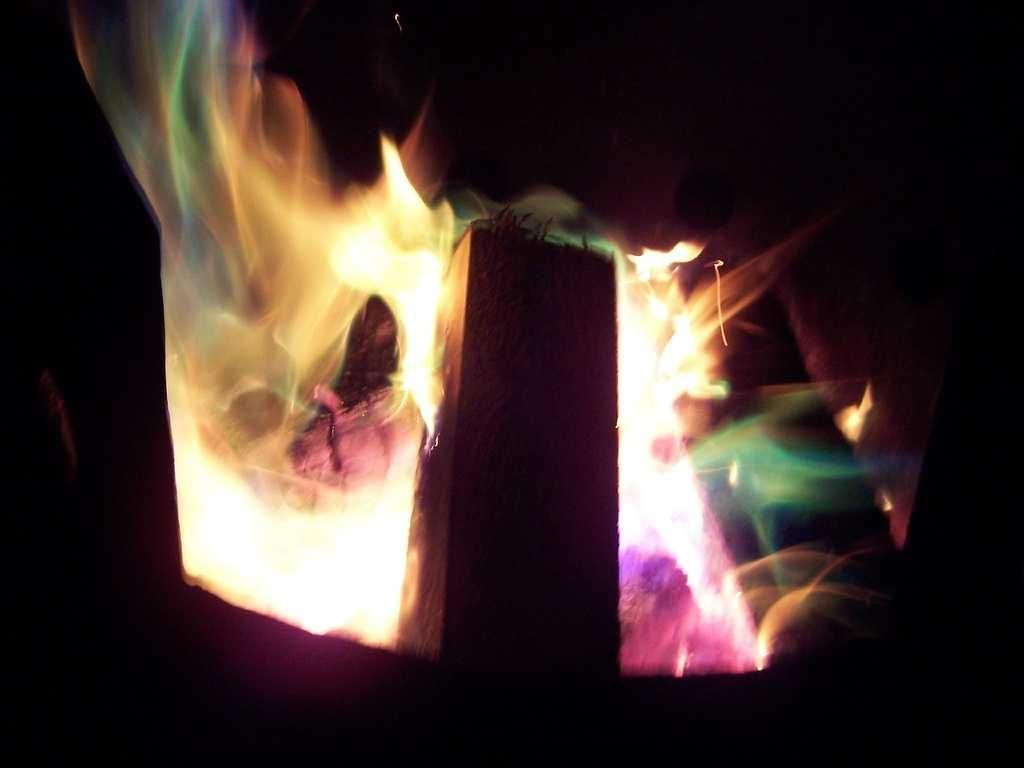fire: (137, 124, 445, 652), (624, 254, 794, 692)
